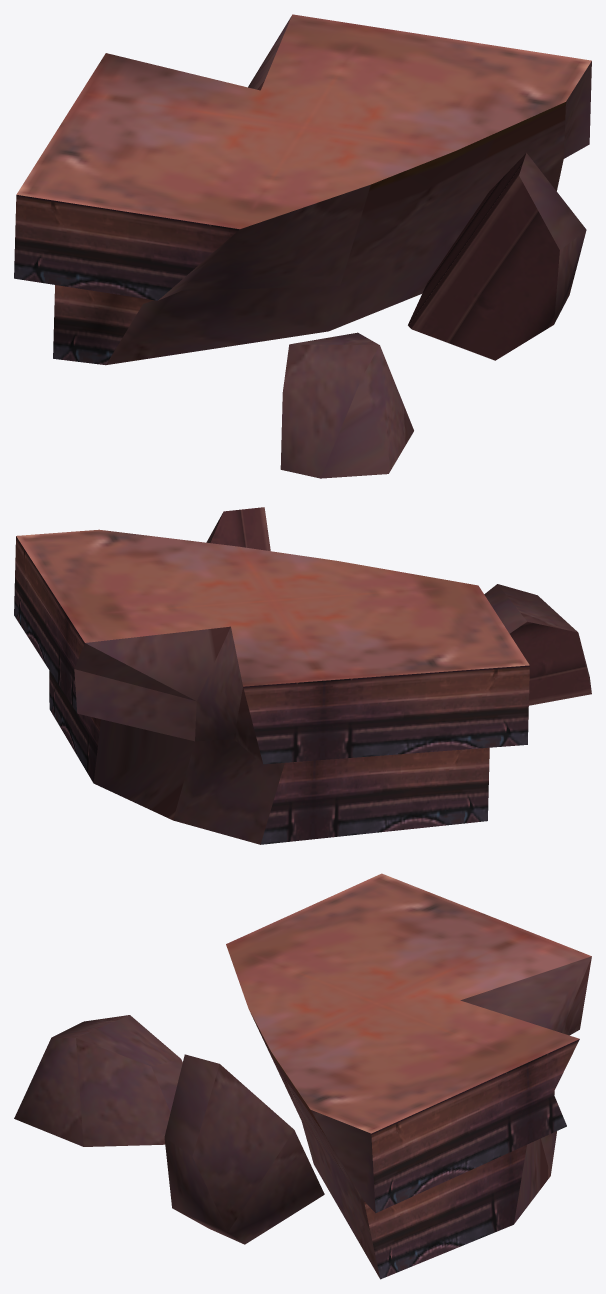
Rendered from Dungeons_03_02_21.FBX.
3 renders of one model, top to bottom at view 1: azimuth 30°, elevation 25°; view 2: azimuth 150°, elevation 25°; view 3: azimuth 270°, elevation 25°, orthographic. The views are drawn at different scales.
Visible parts, largest first — view 1: Object335; view 2: Object335; view 3: Object335.
Boxes of the visible parts, x1,y1,x2,y2 form: Object335: [14, 14, 591, 478]; Object335: [14, 507, 591, 844]; Object335: [14, 873, 591, 1279].
Size of the model in its own units: 29.15 by 9.89 by 27.45.
